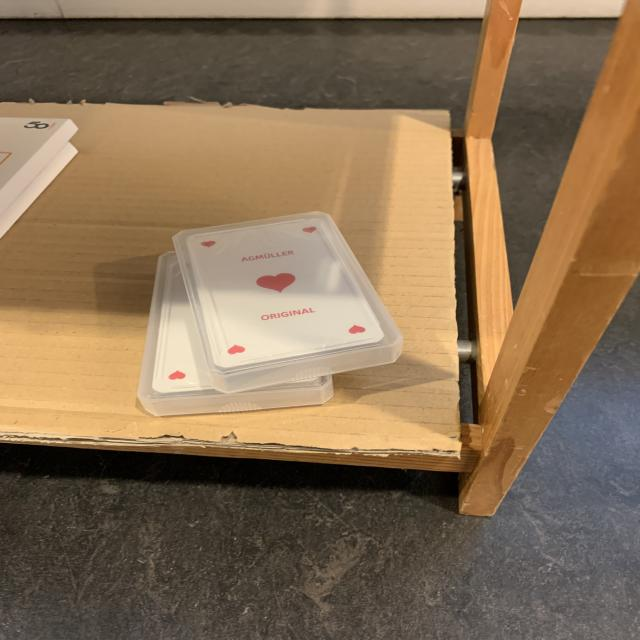Jasskarte: (173, 212, 403, 392), (137, 252, 333, 416)
